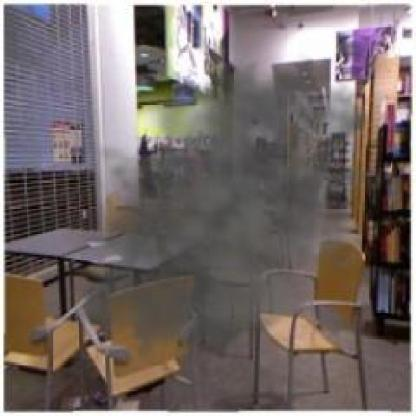Smoke: (57, 35, 394, 381)
